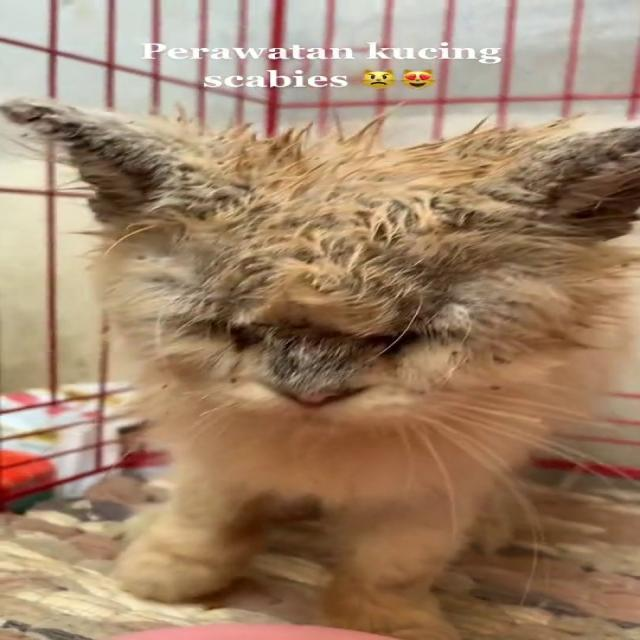cat-scabies: (4, 98, 196, 215), (518, 122, 640, 234), (254, 328, 360, 388)
